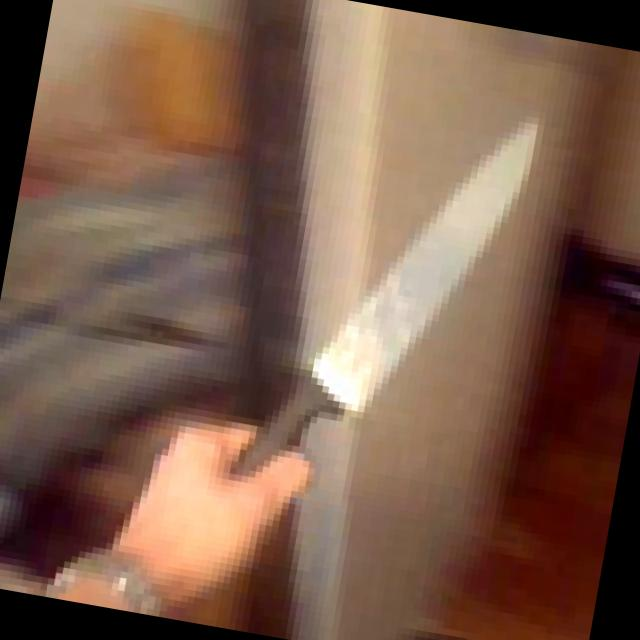knife: (164, 46, 566, 564)
